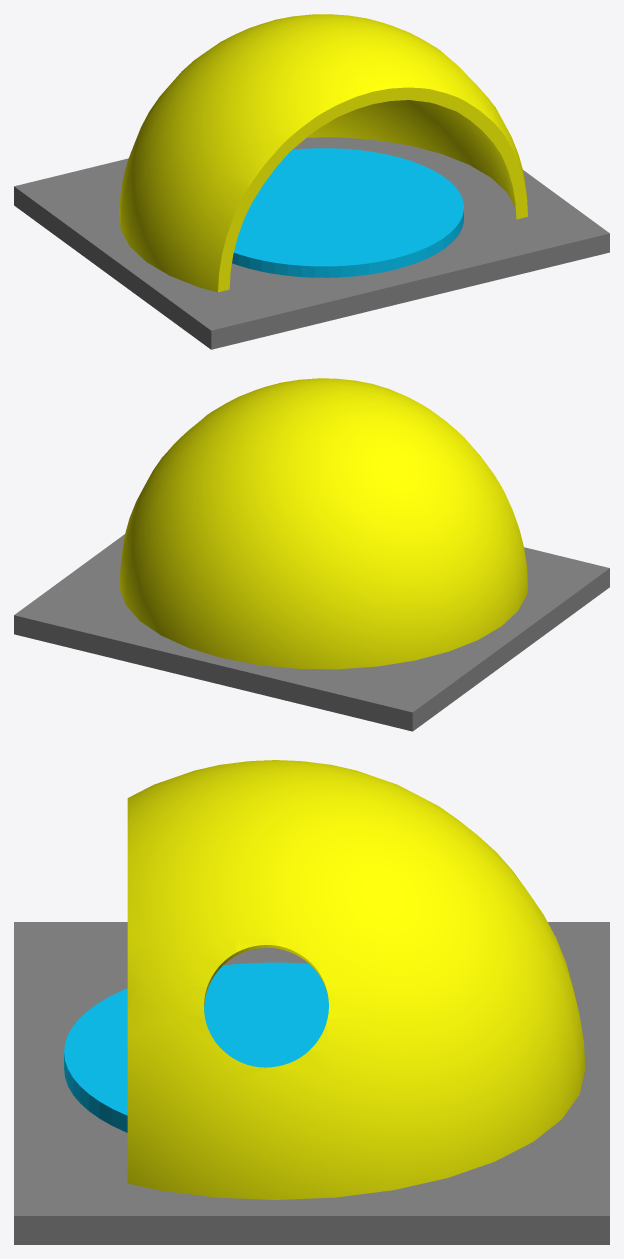
The model's file is leonardo.glb.
The picture shows the model from 3 angles, top to bottom: view 1: azimuth 30°, elevation 25°; view 2: azimuth 150°, elevation 25°; view 3: azimuth 270°, elevation 25°; orthographic projection. The views are drawn at different scales.
Parts seen in each view (by area): view 1: Sphere, Cube.002, Cylinder; view 2: Sphere, Cube.002; view 3: Sphere, Cube.002, Cylinder.
Part boxes in pixels (x1,y1,x2,y2): Sphere: (119, 14, 527, 292); Cube.002: (14, 137, 609, 349); Cylinder: (232, 148, 463, 277); Sphere: (119, 378, 527, 669); Cube.002: (14, 534, 609, 731); Sphere: (127, 760, 585, 1199); Cube.002: (14, 922, 609, 1244); Cylinder: (64, 962, 328, 1132).
Bounding box in the file's own units: 2.33 × 1.14 × 2.
